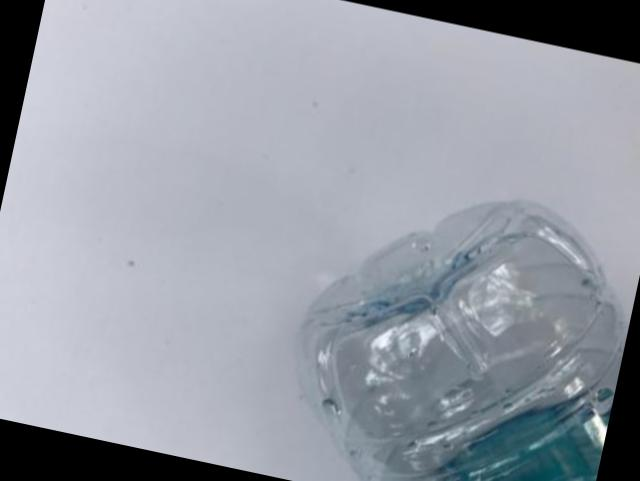plastic: (298, 198, 628, 481)
